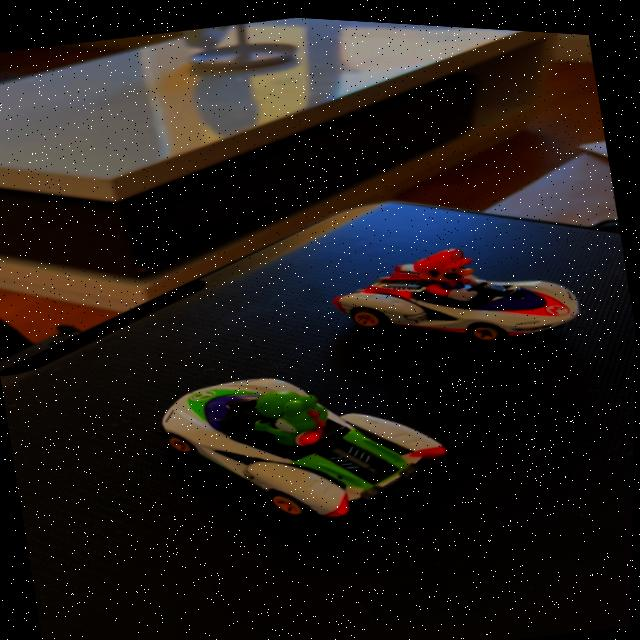mario: (316, 208, 601, 368)
yoshi: (141, 328, 478, 560)
